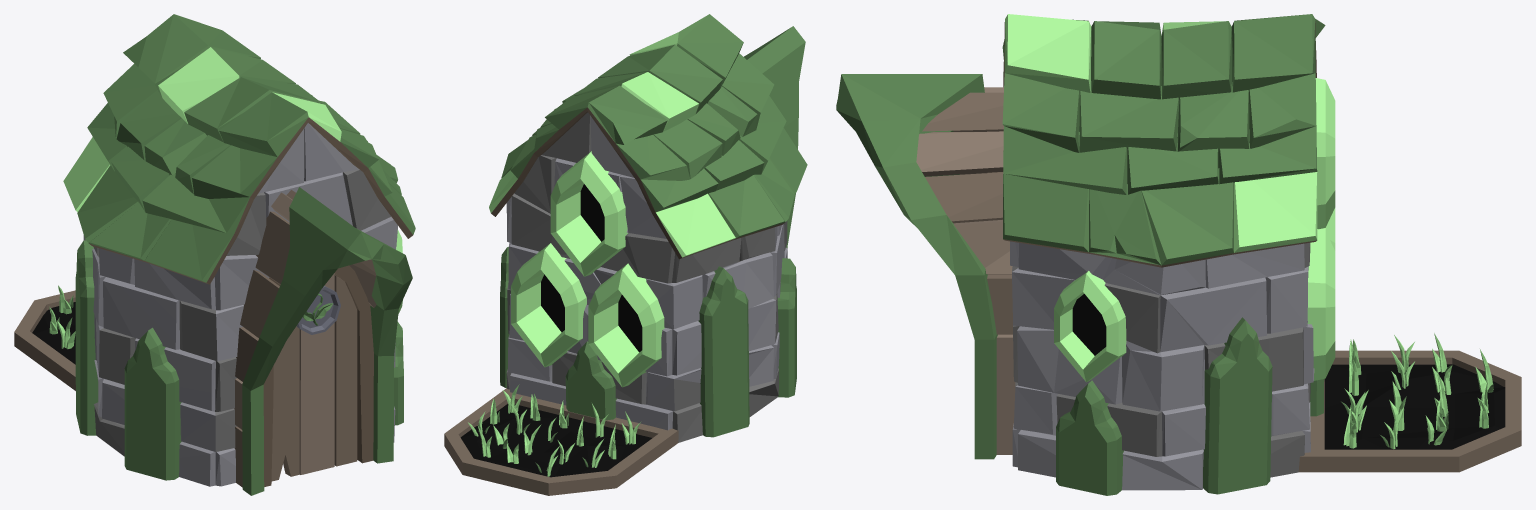
Rendered from Shop.fbx.
3 renders of one model, left to right at view 1: azimuth 30°, elevation 25°; view 2: azimuth 150°, elevation 25°; view 3: azimuth 270°, elevation 25°, orthographic. The views are drawn at different scales.
Parts seen in each view (by area): view 1: herbalist_shop; view 2: herbalist_shop; view 3: herbalist_shop.
Part boxes in pixels (x1,y1,x2,y2): herbalist_shop: (14, 14, 415, 495); herbalist_shop: (444, 14, 807, 495); herbalist_shop: (836, 14, 1521, 495).
Bounding box in the file's own units: 452 × 503 × 771.
